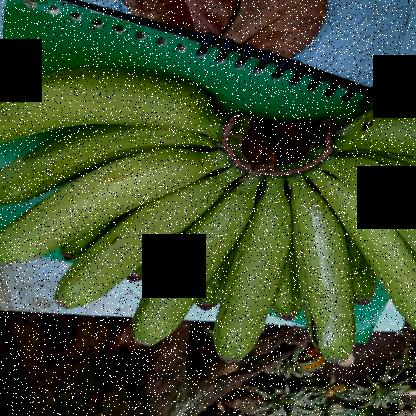freshunripe: (48, 166, 233, 315), (1, 152, 227, 264), (129, 181, 267, 356), (1, 65, 217, 151), (1, 123, 205, 208), (312, 166, 415, 330), (213, 184, 297, 368), (330, 155, 415, 242), (324, 96, 416, 170)
